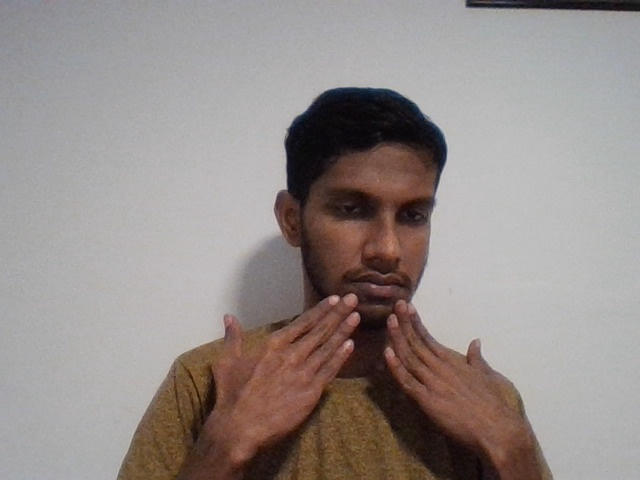thanks: (183, 286, 564, 462)
